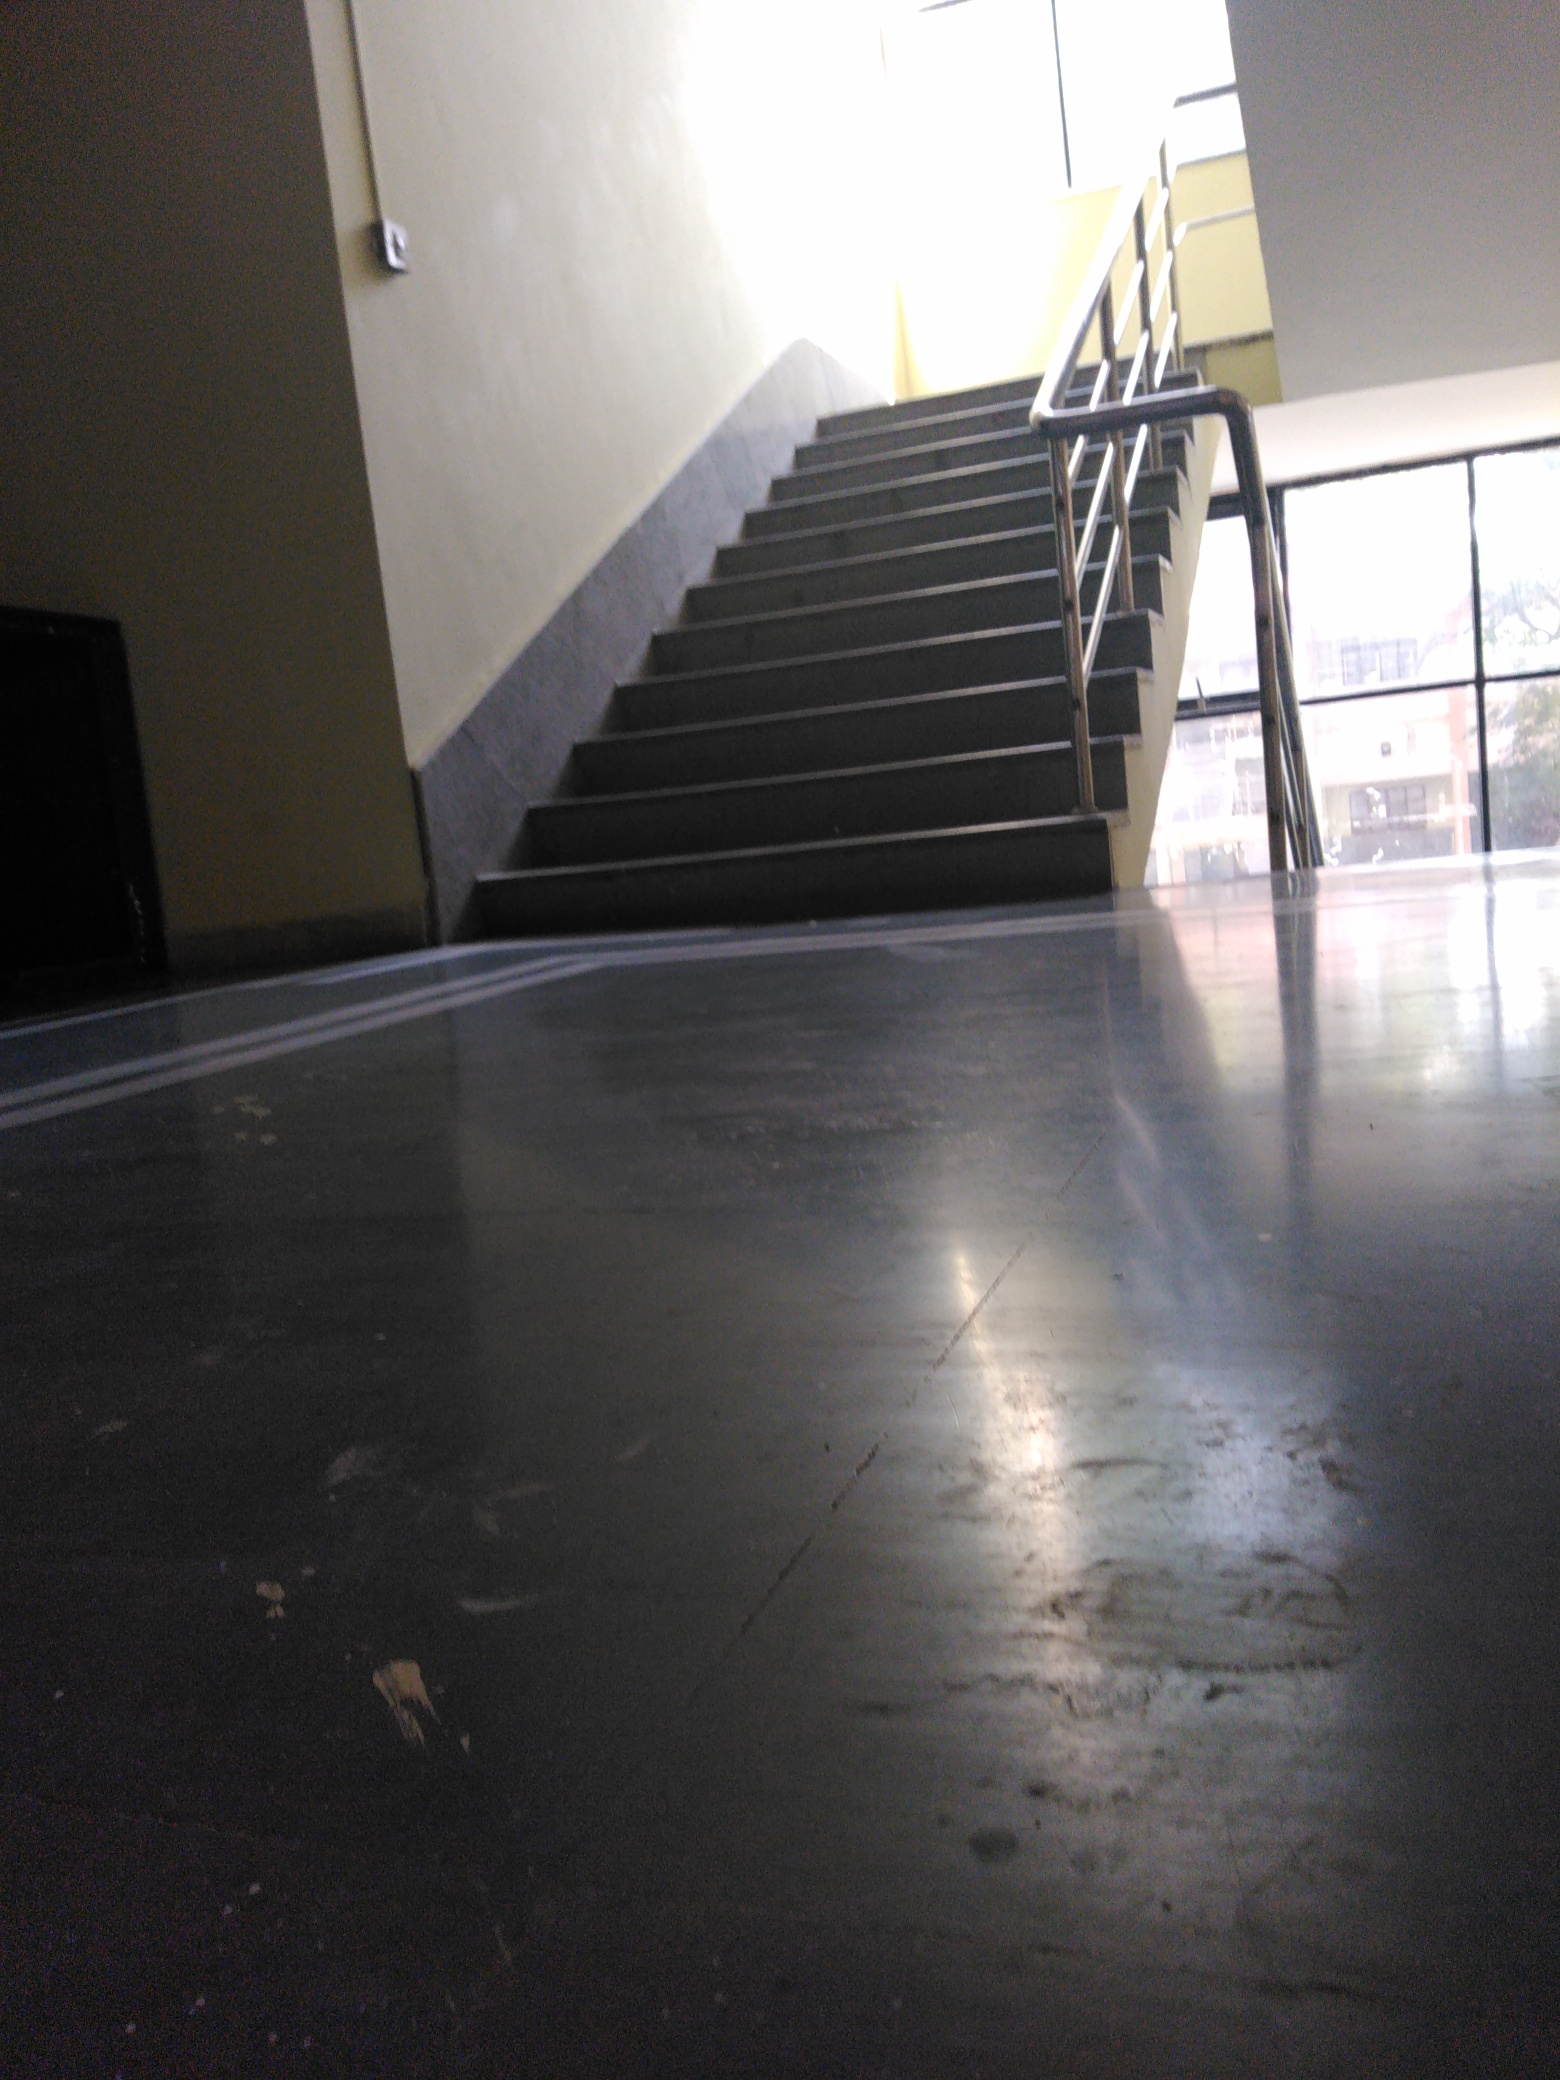stairs_up: (462, 342, 1208, 920)
